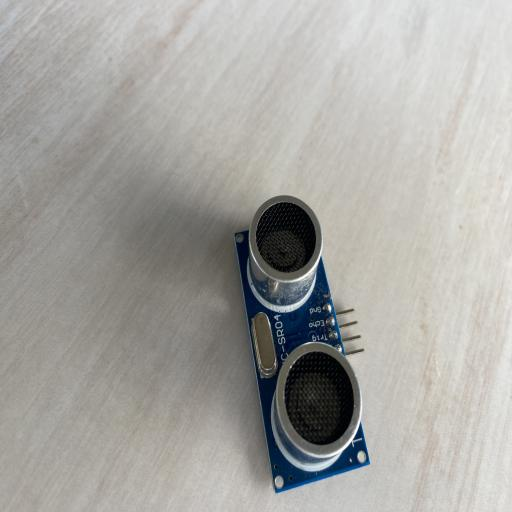Ultrasonic Sensor: (234, 195, 372, 495)
